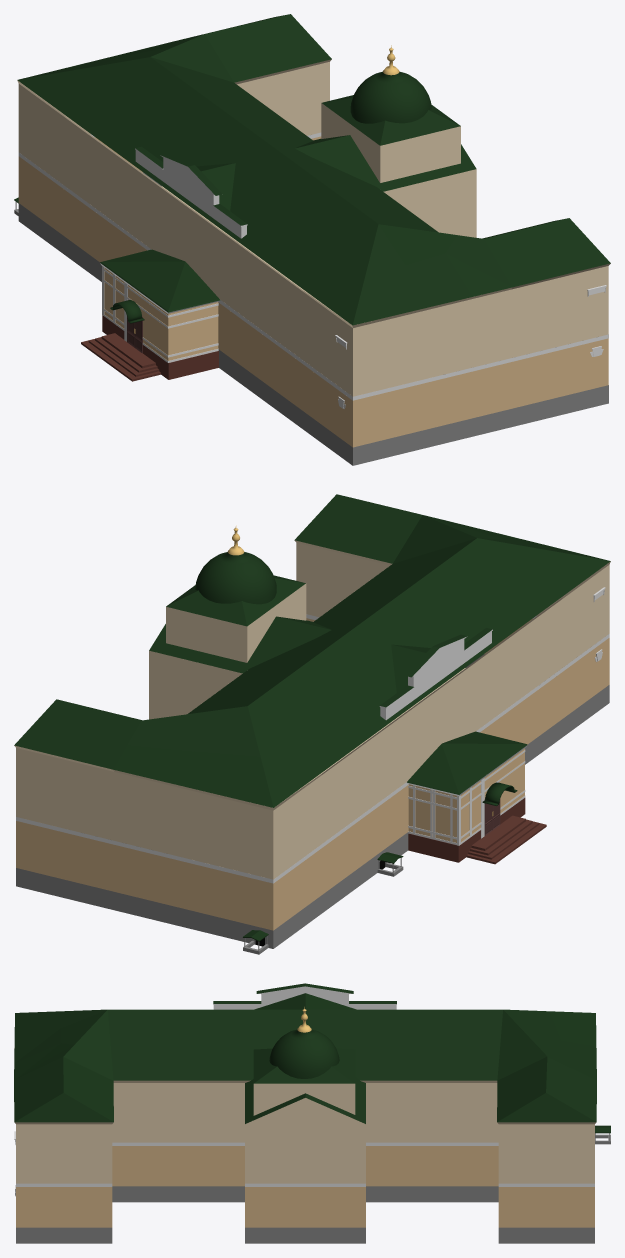
Rendered from archhouse.glb.
The picture shows the model from 3 angles, top to bottom: view 1: azimuth 30°, elevation 25°; view 2: azimuth 150°, elevation 25°; view 3: azimuth 270°, elevation 25°; orthographic projection. The views are drawn at different scales.
Visible parts, largest first — view 1: Main, Top cube, Sphere, Top; view 2: Main, Top cube, Sphere, Top; view 3: Main, Top cube, Sphere, Top.
Part boxes in pixels (x1,y1,x2,y2): Main: (17,14,610,465); Top cube: (321,95,460,182); Sphere: (350,45,431,123); Top: (135,146,247,238); Main: (14,494,610,948); Top cube: (166,575,306,662); Sphere: (195,525,276,604); Top: (379,628,492,720); Main: (14,993,596,1243); Top cube: (253,1048,355,1115); Sphere: (269,1007,339,1078); Top: (213,983,396,1009).
Bounding box in the file's own units: 41.55 × 29.4 × 73.82.
